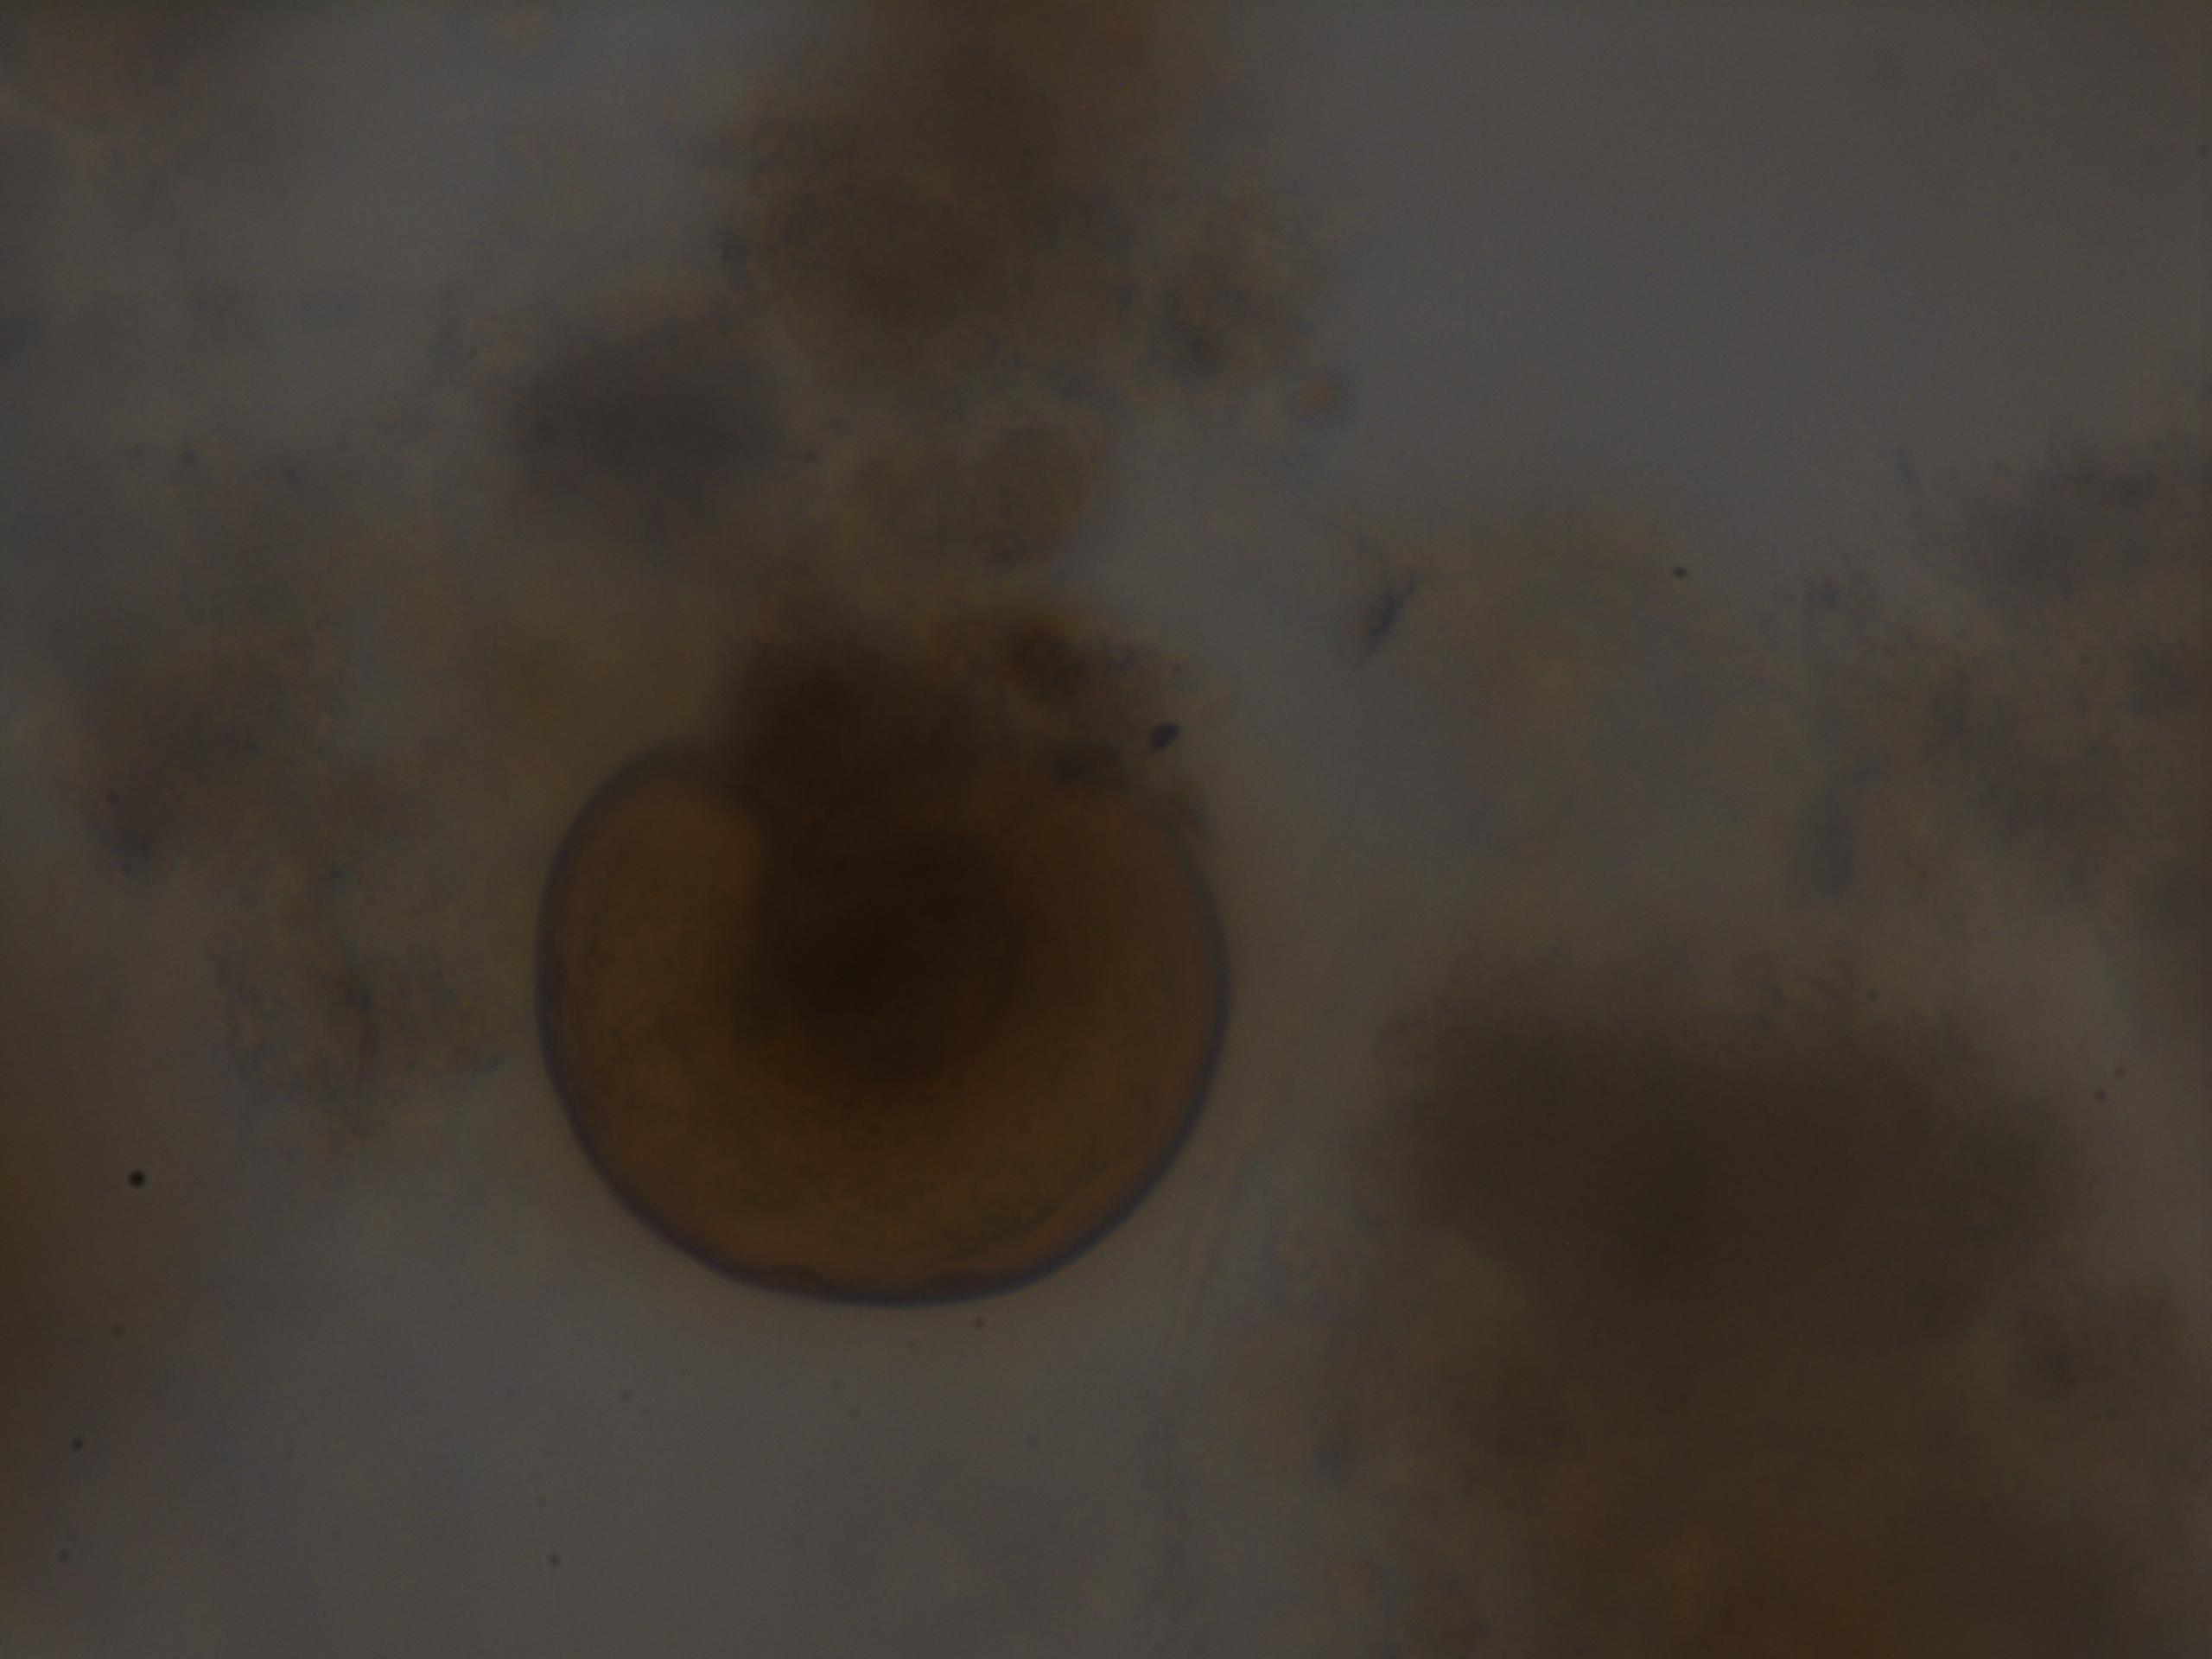protozoa: (526, 645, 1242, 1316)
